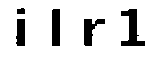1: (118, 5, 149, 49)
i: (12, 4, 36, 52)
l: (44, 6, 69, 49)
r: (80, 15, 107, 51)
